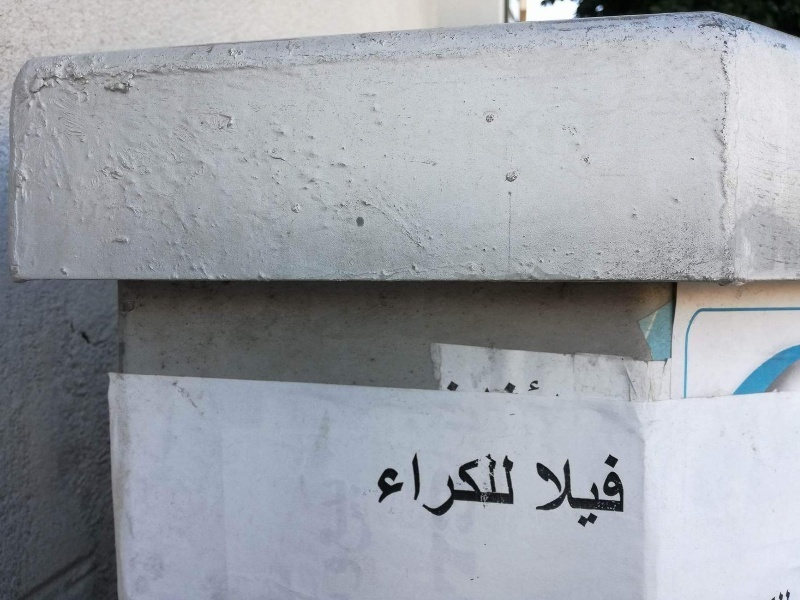text: (545, 454, 560, 530), (561, 454, 576, 530), (577, 454, 592, 530), (593, 454, 608, 530), (609, 454, 624, 530), (321, 479, 336, 555), (337, 479, 352, 555), (353, 479, 368, 555), (385, 452, 400, 518), (401, 452, 416, 518), (417, 452, 432, 518), (433, 452, 448, 518), (449, 452, 464, 518), (465, 452, 480, 518), (481, 452, 496, 518), (497, 452, 512, 518), (534, 454, 544, 530), (337, 556, 352, 595), (323, 556, 336, 595), (377, 452, 384, 518), (369, 479, 375, 555), (353, 556, 364, 595), (316, 479, 320, 555), (625, 454, 626, 530), (513, 452, 514, 518)
